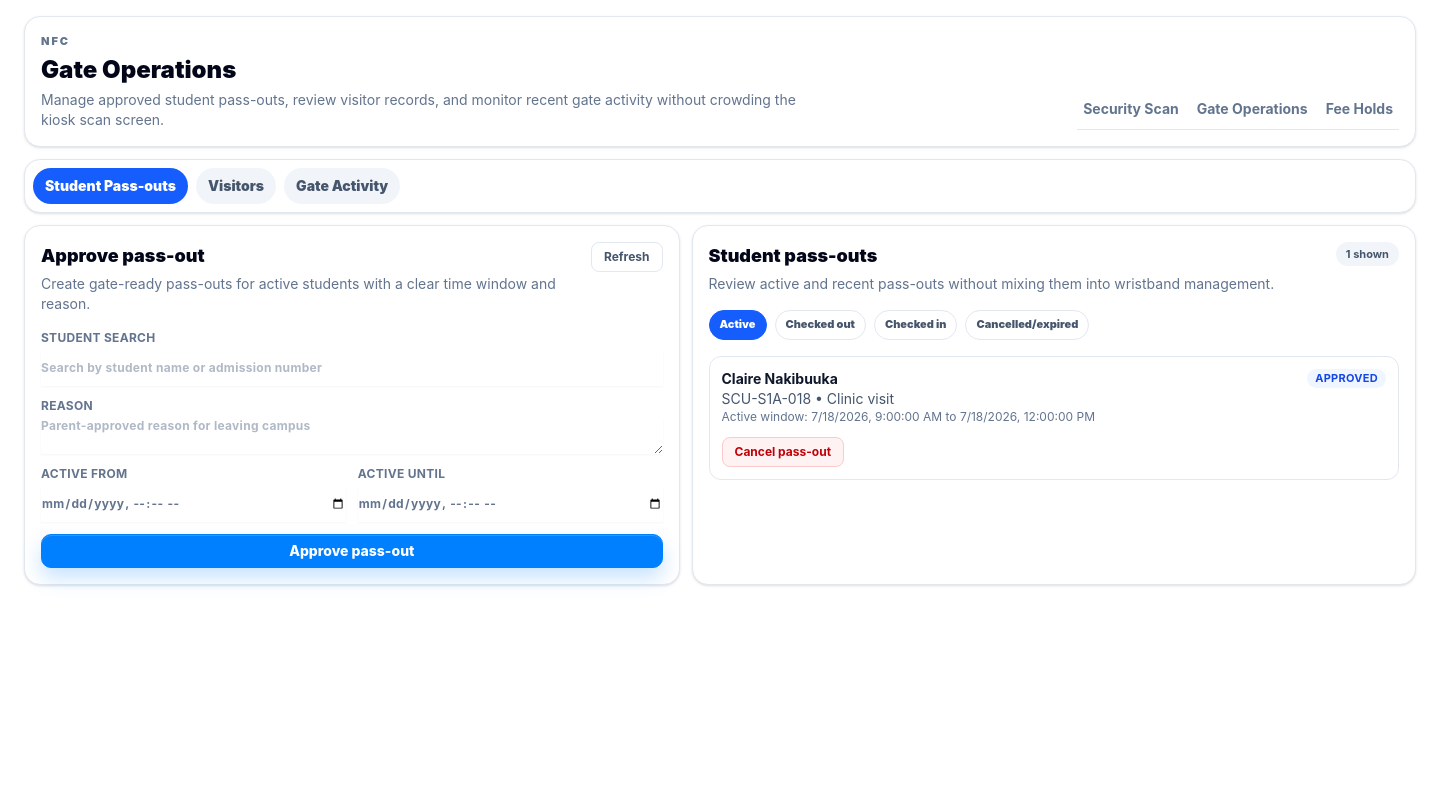
NfcGateOperationsPage › creates a pass-out from the dedicated gate operations page
This screenshot has width=1440, height=810.
Expected: the heading "Gate Operations" is shown, [41,54,236,84]
Type "Mike" into the field labelled "Student search" at [352, 368], box [41,350,662,386]
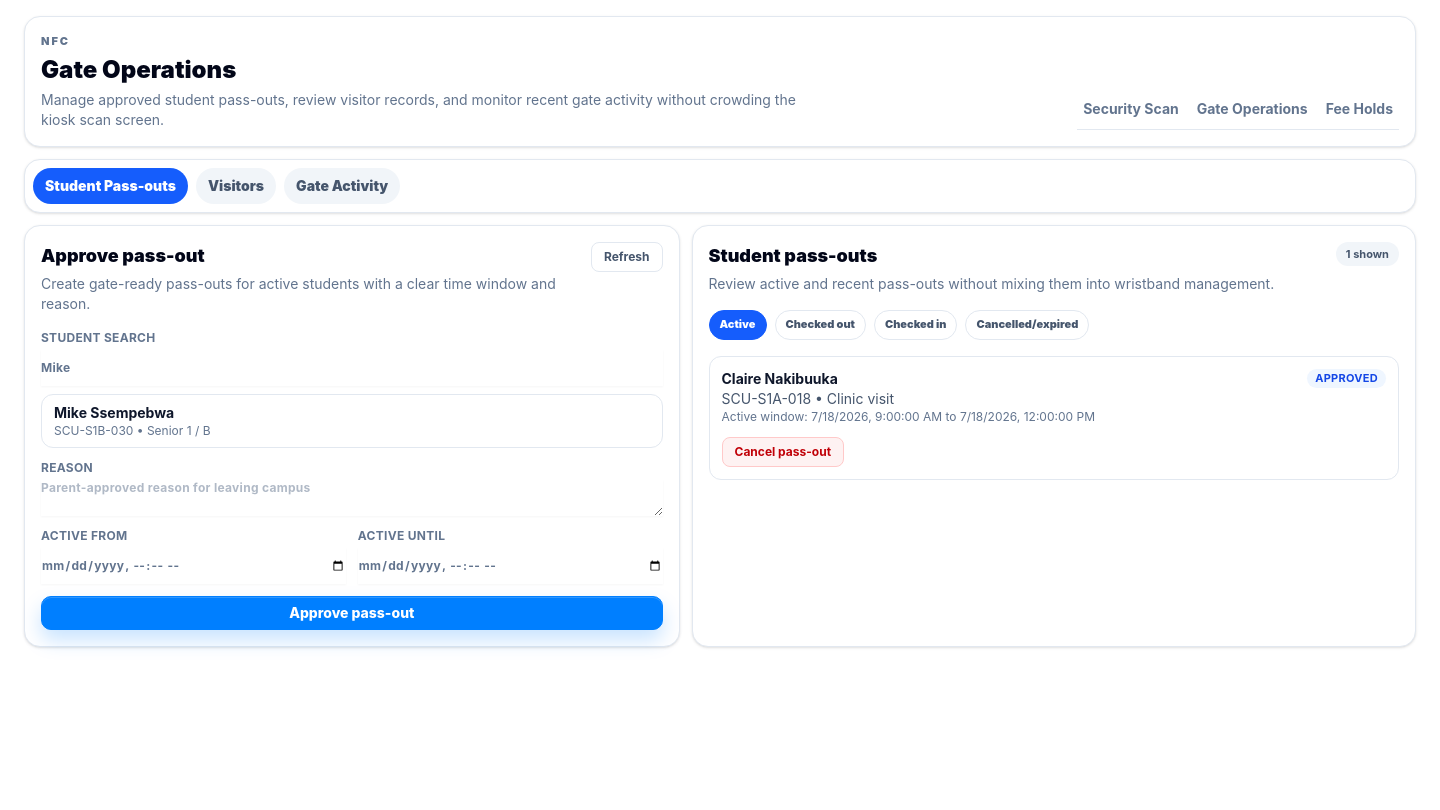
Click the text "Mike Ssempebwa" at [114, 412], box [54,404,174,420]
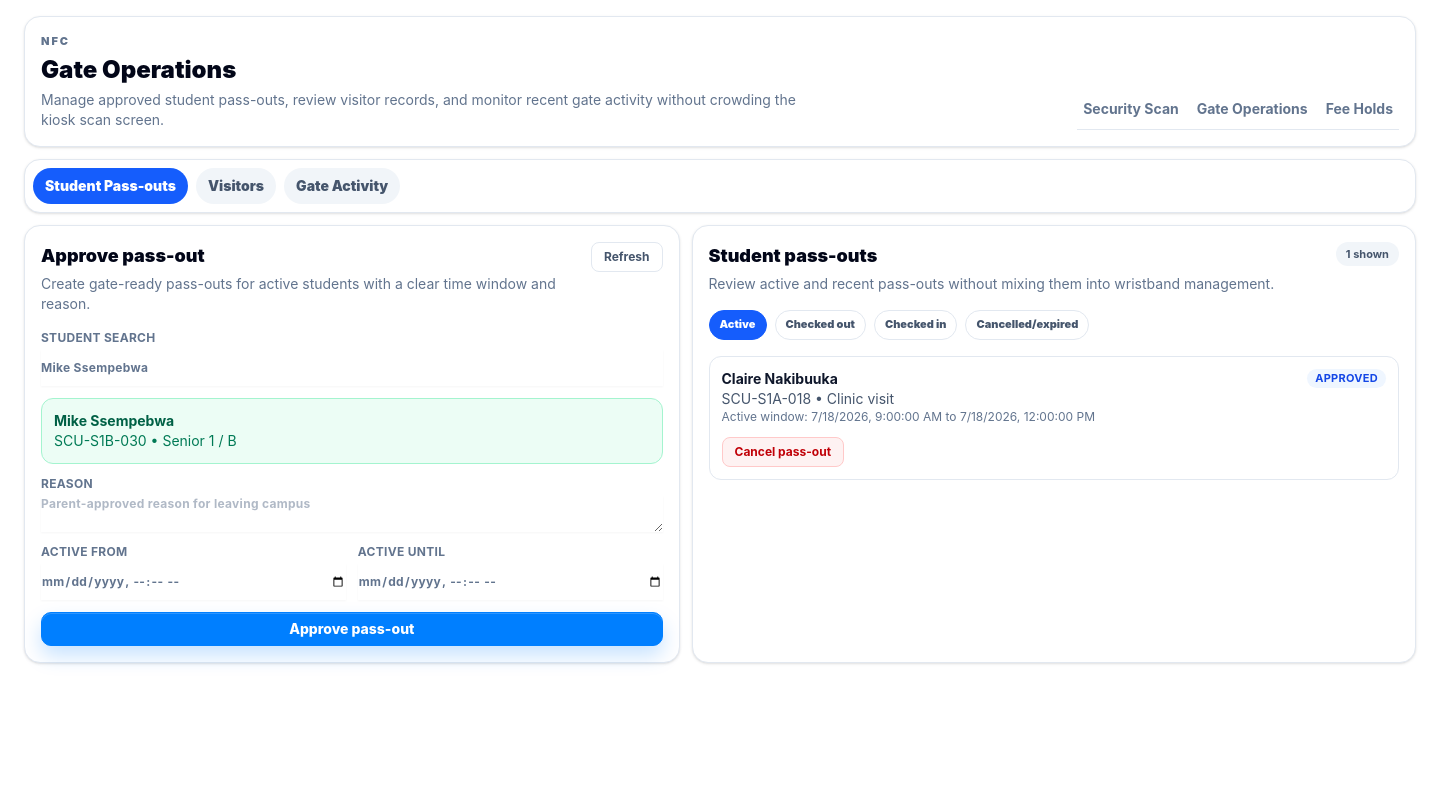
Type "Clinic review" into the text box labelled "Reason" at [352, 514], box [41,496,662,532]
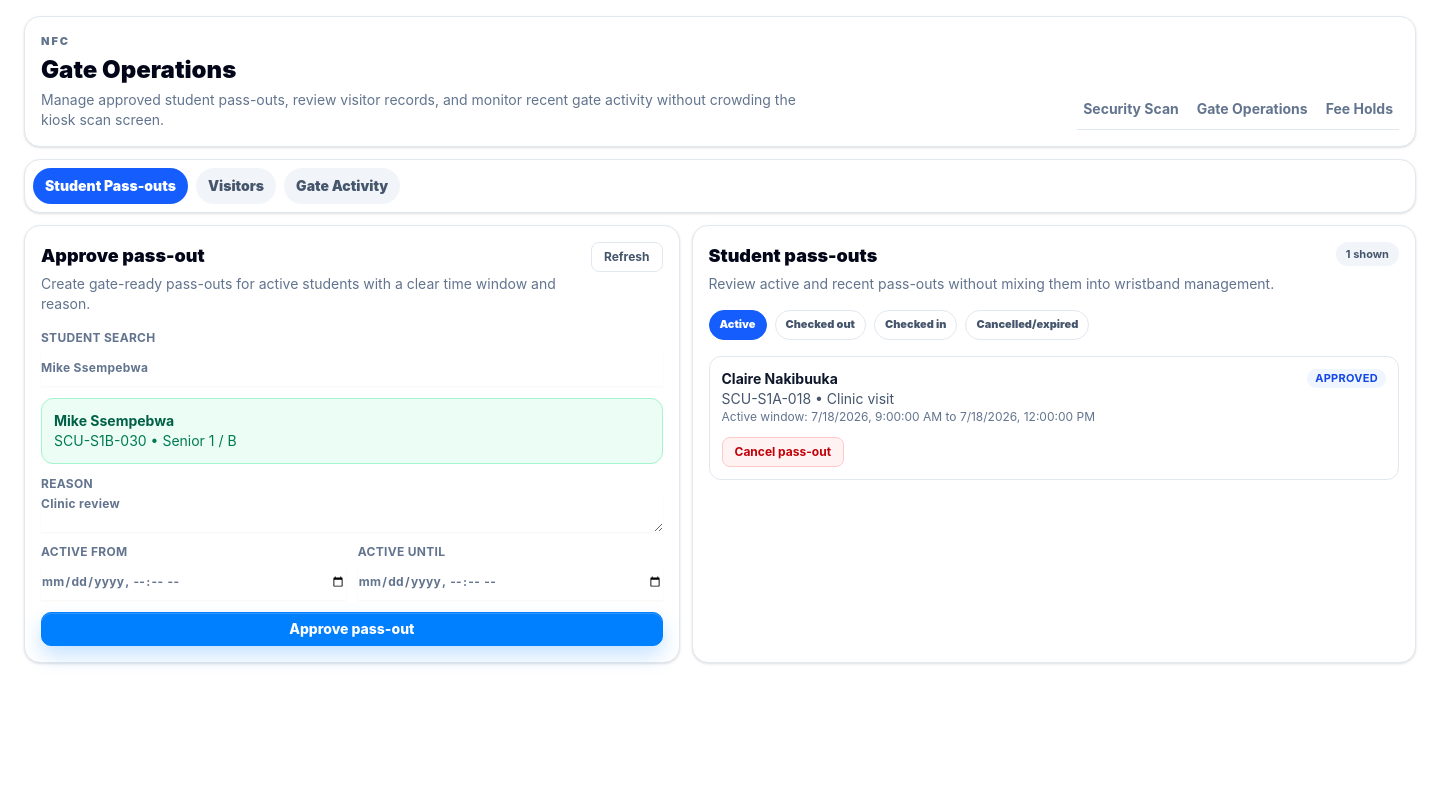
Type "2026-07-18T10:00" into the field labelled "Active from" at [193, 582], box [41,564,346,600]
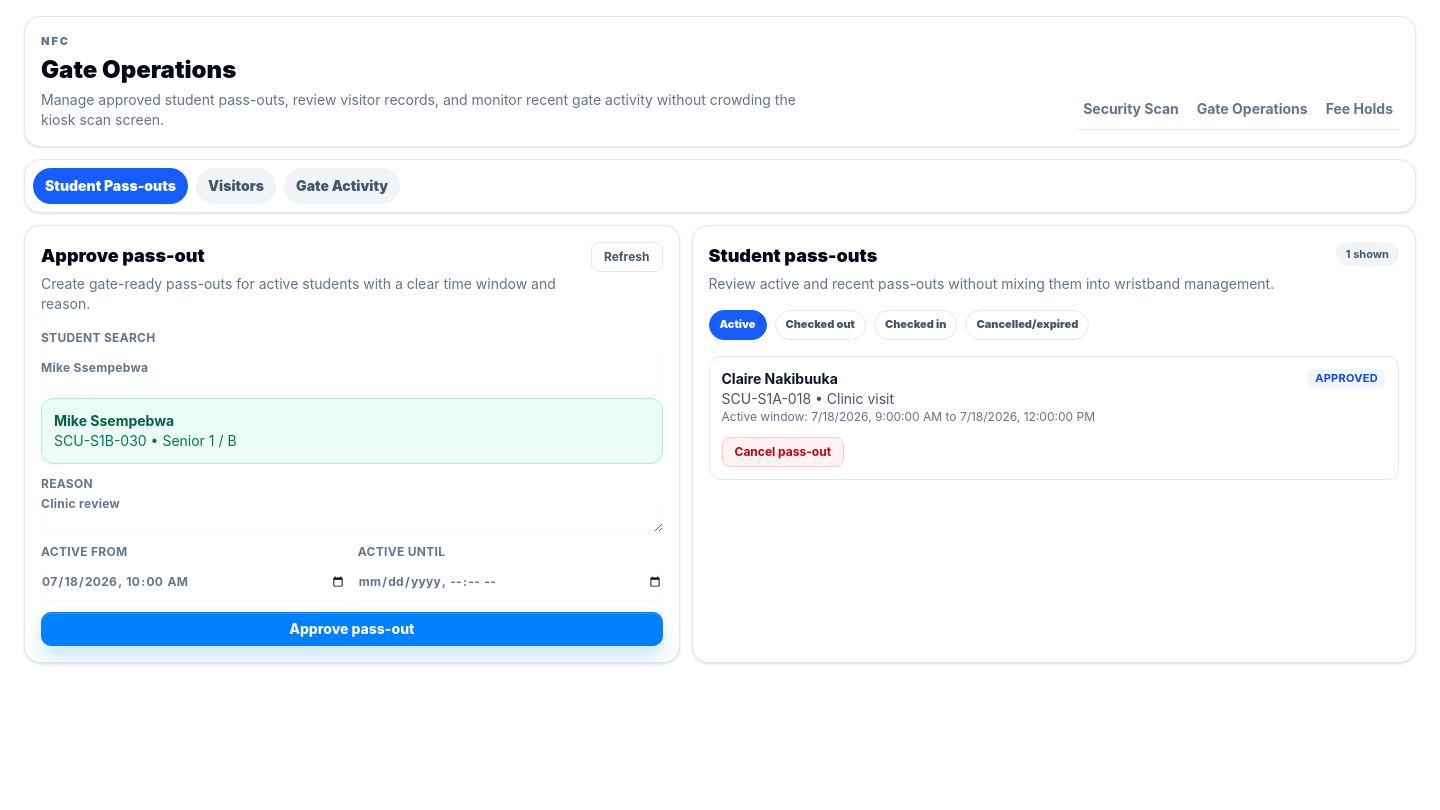
Type "2026-07-18T12:30" into the field labelled "Active until" at [510, 582], box [358,564,663,600]
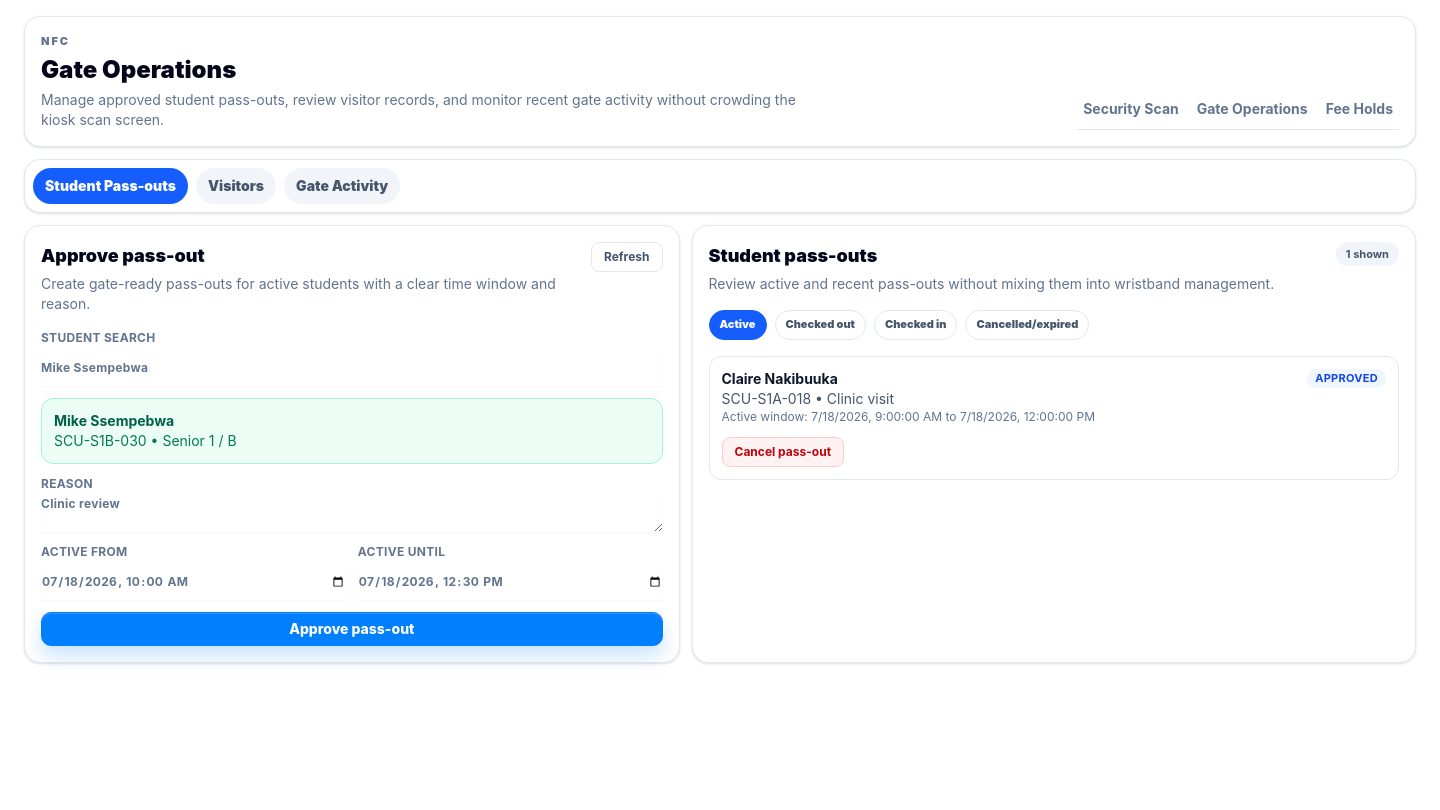
Click the button "Approve pass-out" at [352, 628], box [41,612,662,646]
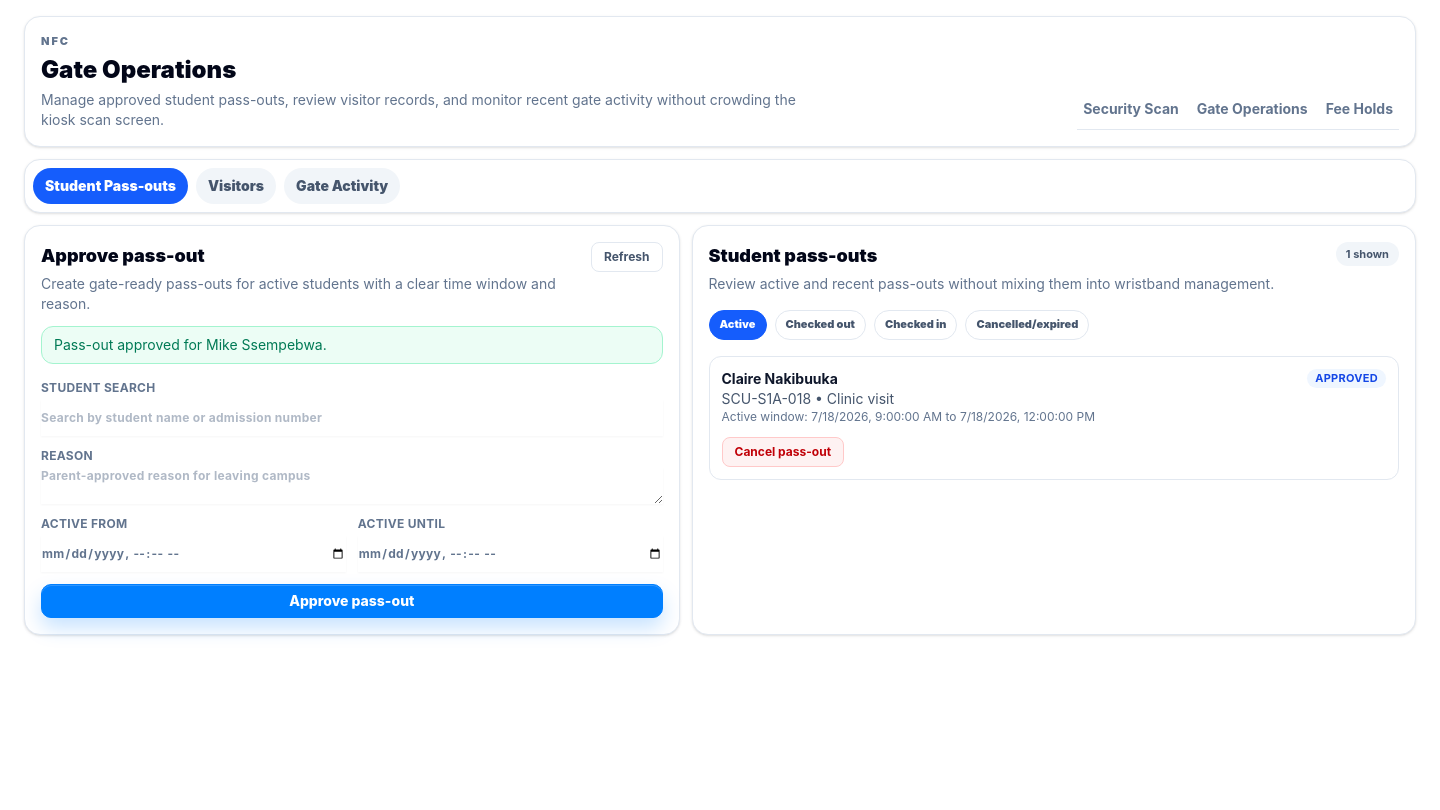
Now the text "Pass-out approved for Mike Ssempebwa." is shown, box [41,326,662,364]
